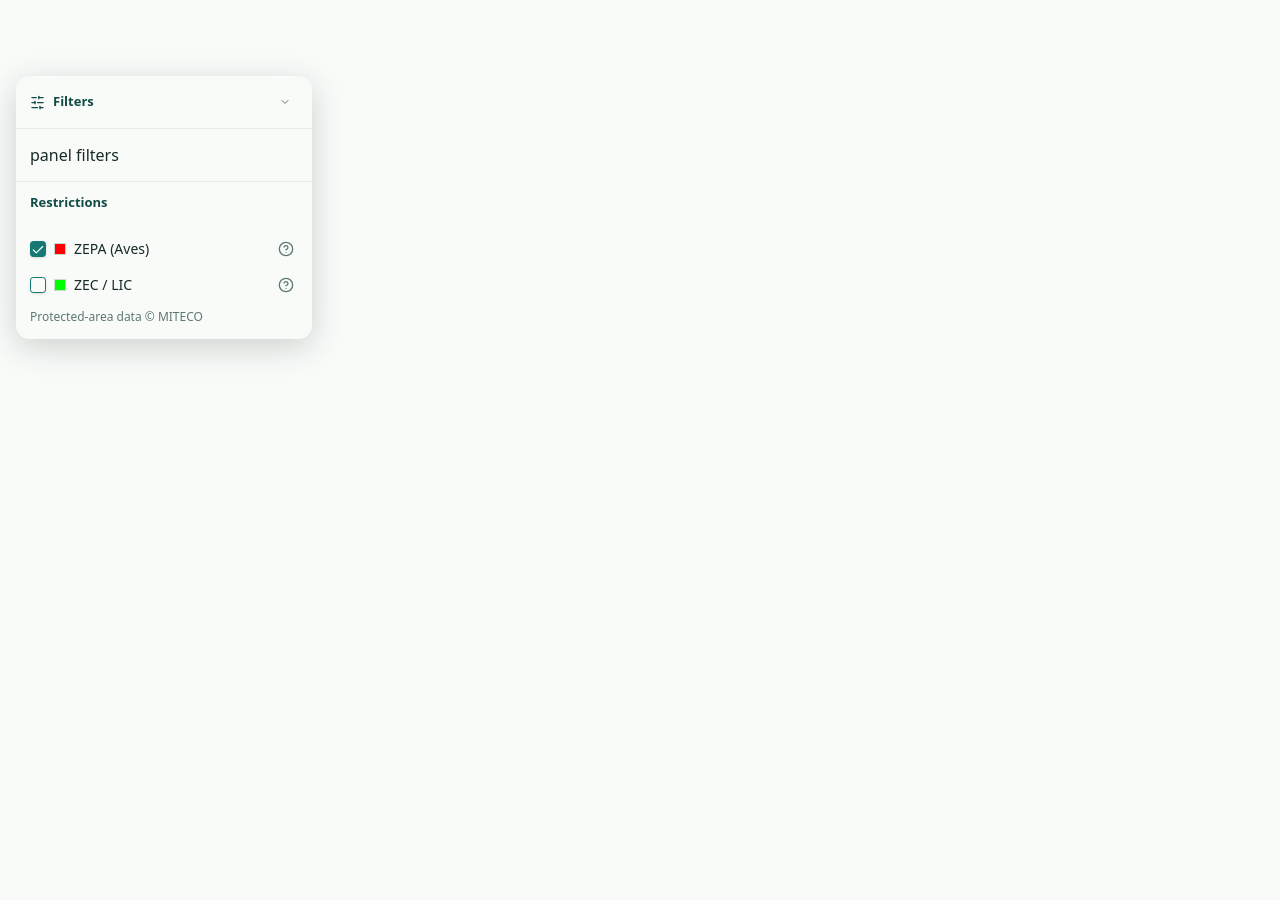
Test case: FiltersPanel › resets an open restriction definition after keyboard collapse and re-expand
Click the button named "About ZEPA (Aves)" at (286, 248), box [274,236,298,260]
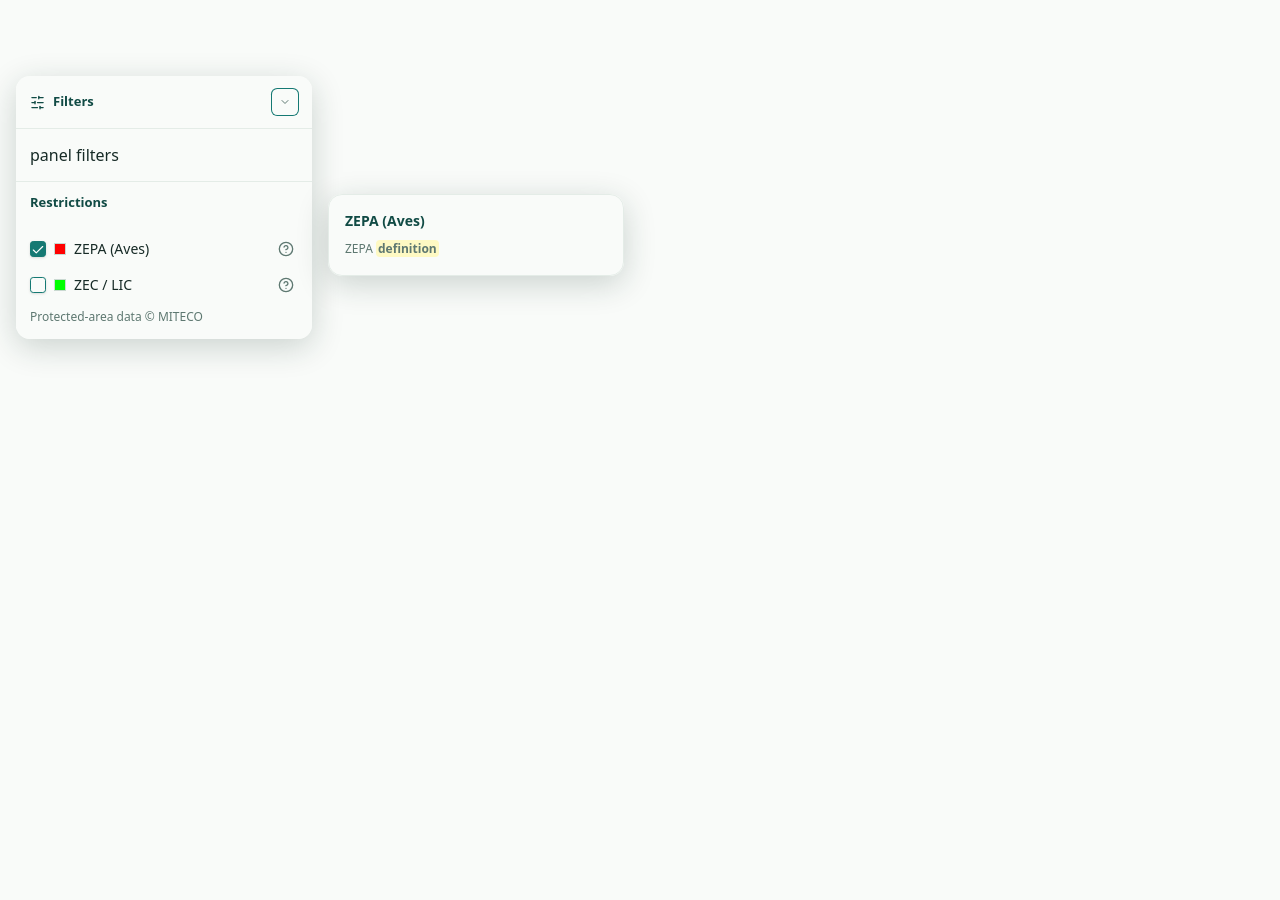
Result: the dialog is shown at [328,194,624,276]
Press Enter
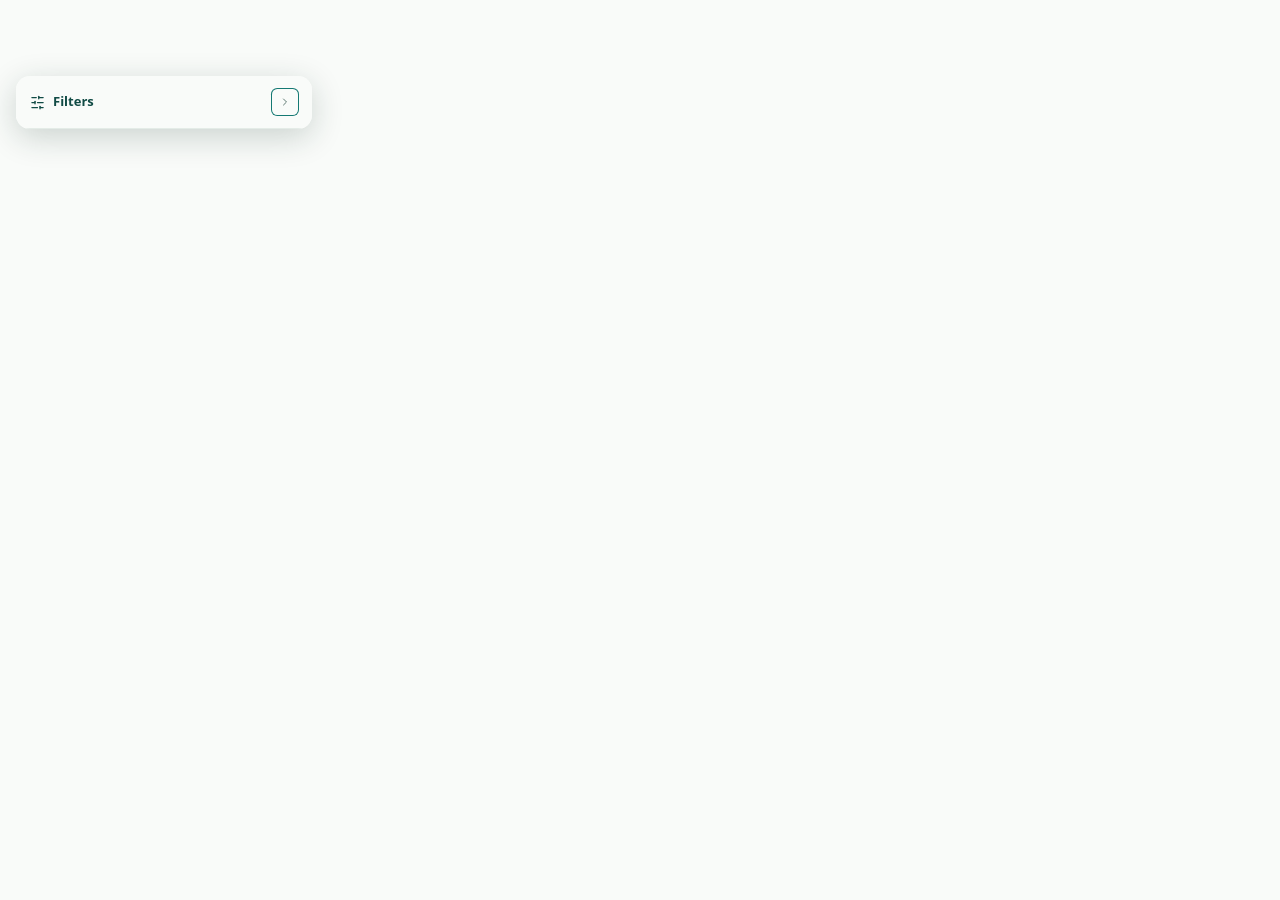
Press Enter
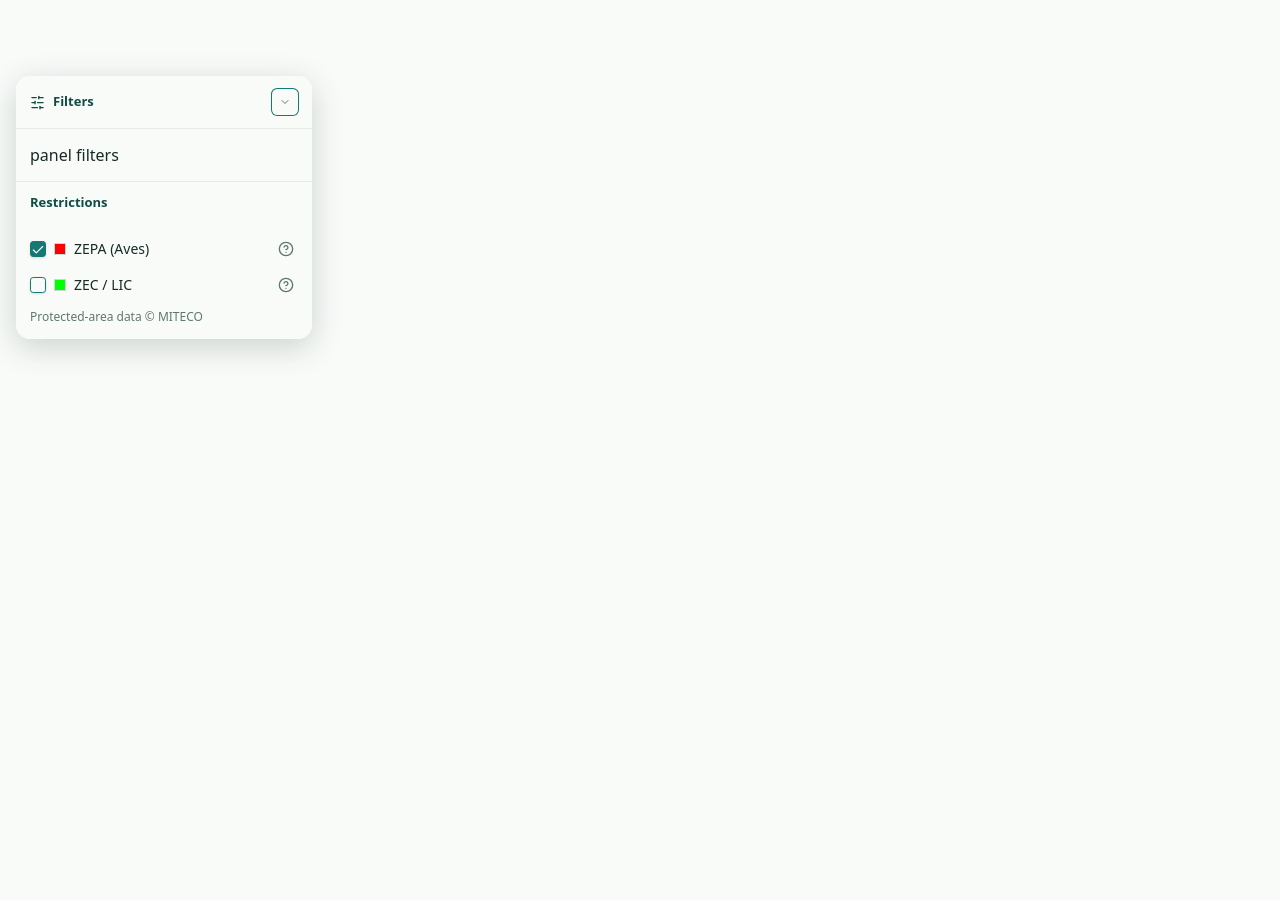
Result: the button named "About" is collapsed at [274,236,298,260]
Result: the checkbox named "ZEPA" next to "ZEPA (Aves)" is checked at [30,240,46,256]
